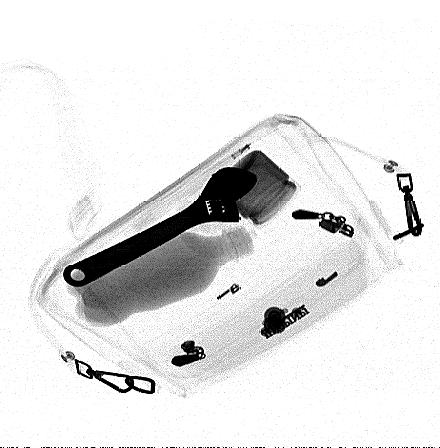Wrench: (63, 167, 259, 289)
